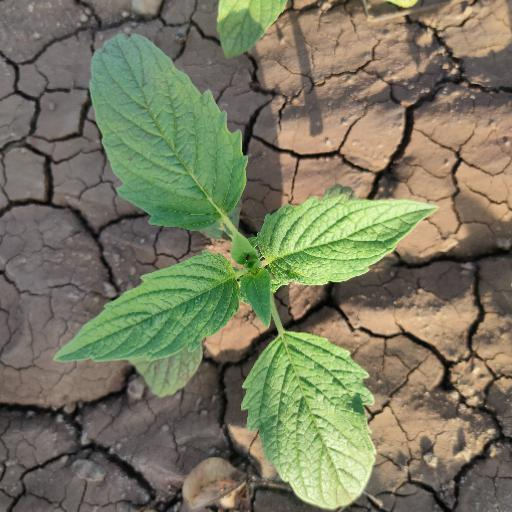crop: (56, 37, 434, 508)
